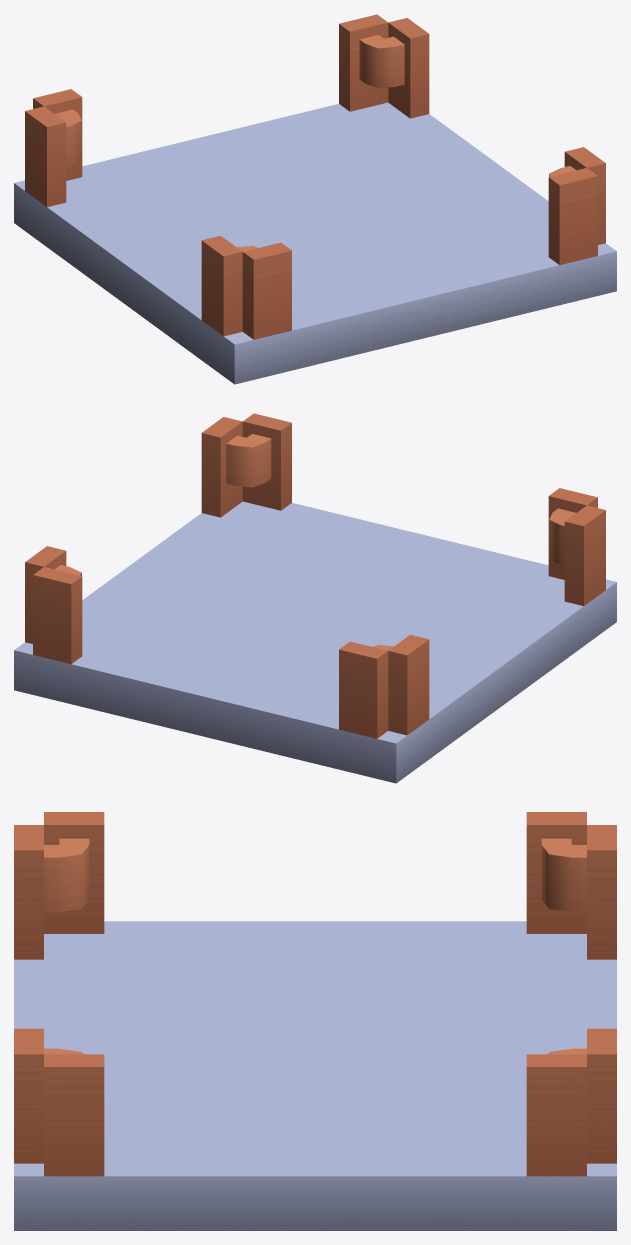
The model's file is path-crossing.glb.
3 renders of one model, top to bottom at view 1: azimuth 30°, elevation 25°; view 2: azimuth 150°, elevation 25°; view 3: azimuth 270°, elevation 25°, orthographic. The views are drawn at different scales.
Parts seen in each view (by area): view 1: path-crossing; view 2: path-crossing; view 3: path-crossing.
Part boxes in pixels (<box>): path-crossing: <box>14,14,616,384</box>; path-crossing: <box>14,413,616,783</box>; path-crossing: <box>14,812,616,1230</box>.
Bounding box in the file's own units: 3 × 0.9 × 3.
Materials: 1 (1 with a texture image).
